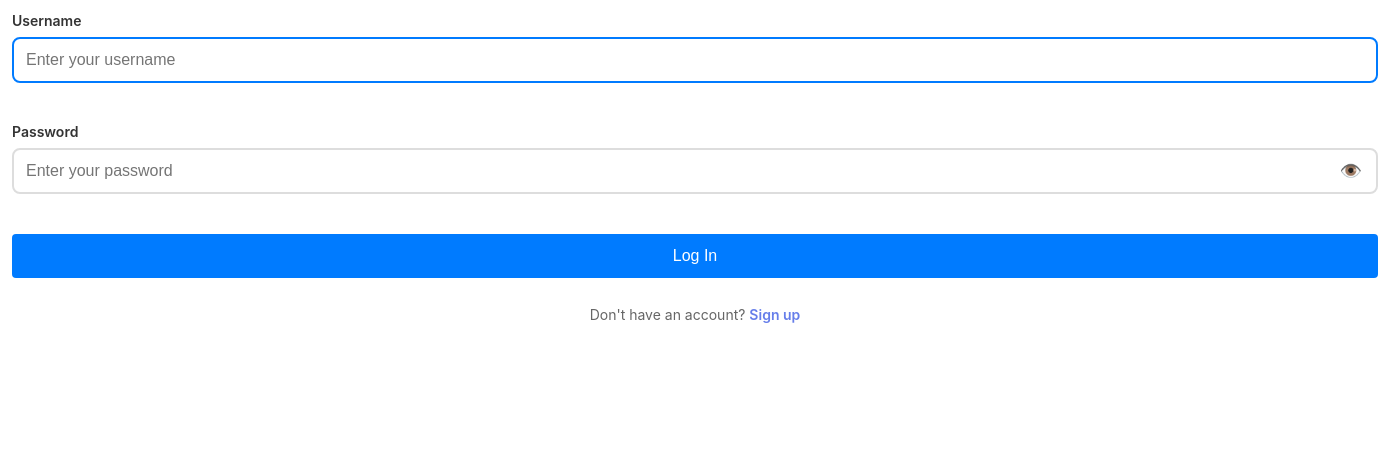
LoginForm › Form Validation - Password Field › displays required error when password is empty and field is blurred
Click the password field labelled "Password" at (695, 171), box [12, 148, 1378, 194]
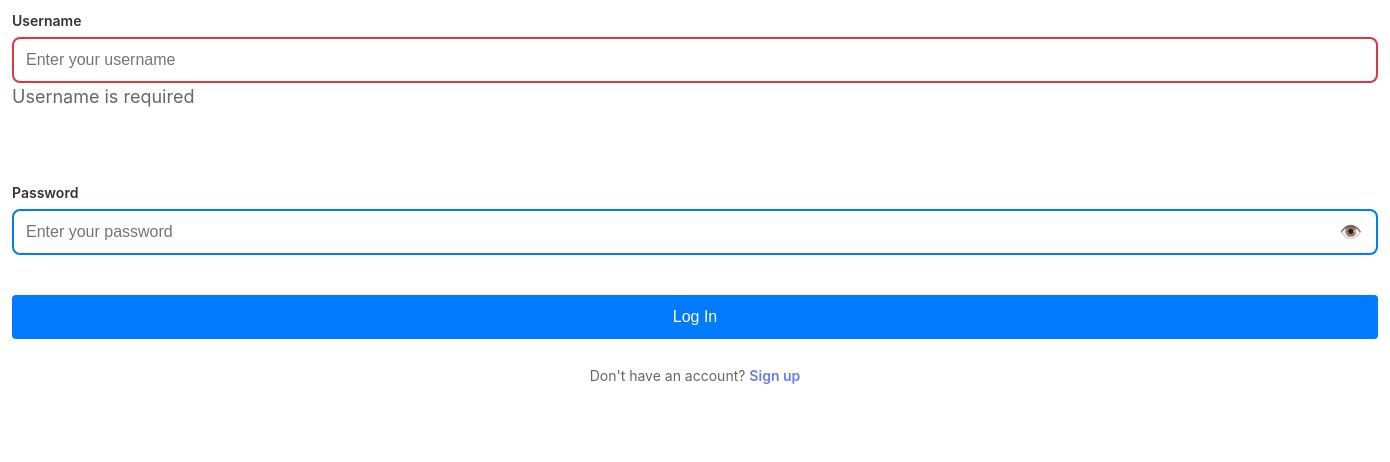
Press Tab
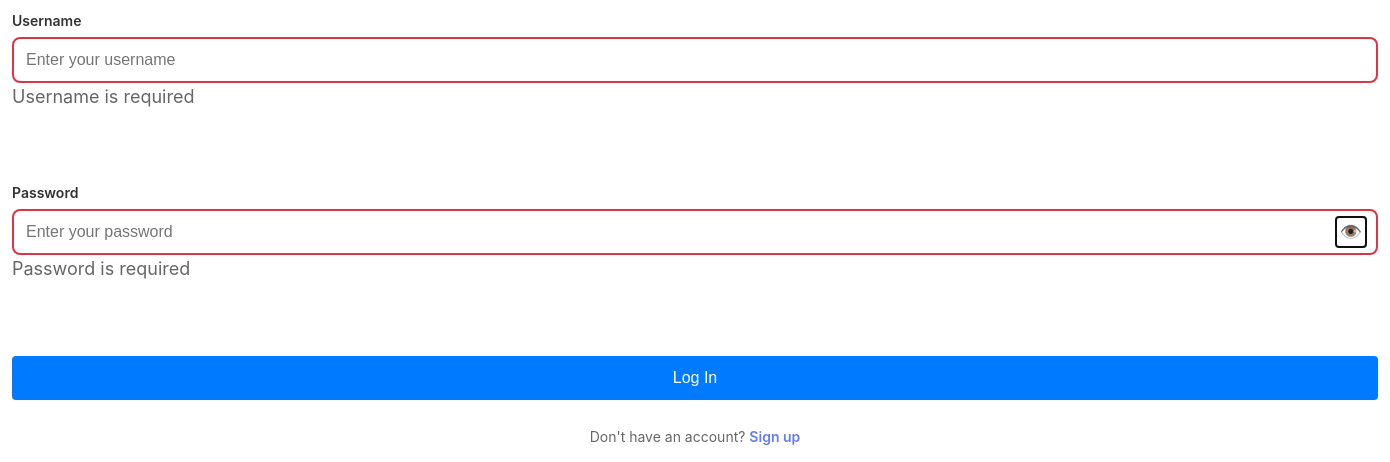
expect the text "Password is required" is shown: met, box [12, 258, 190, 279]
